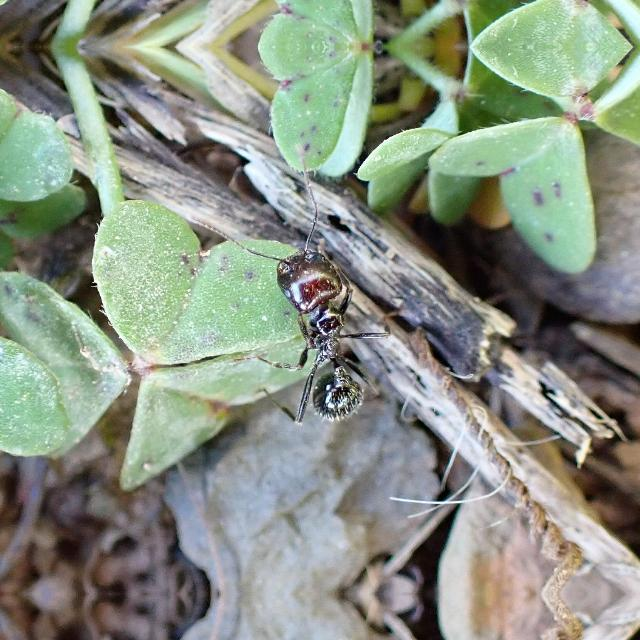Messor: (260, 236, 378, 439)
